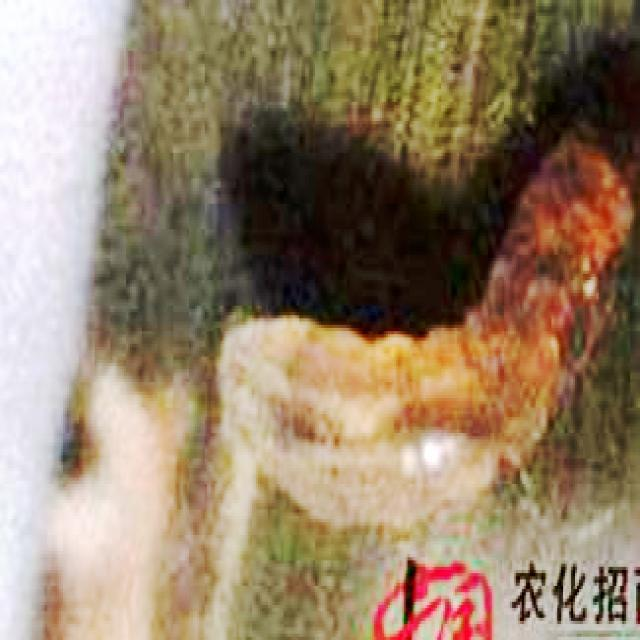whorl-maggot: (218, 123, 636, 538)
